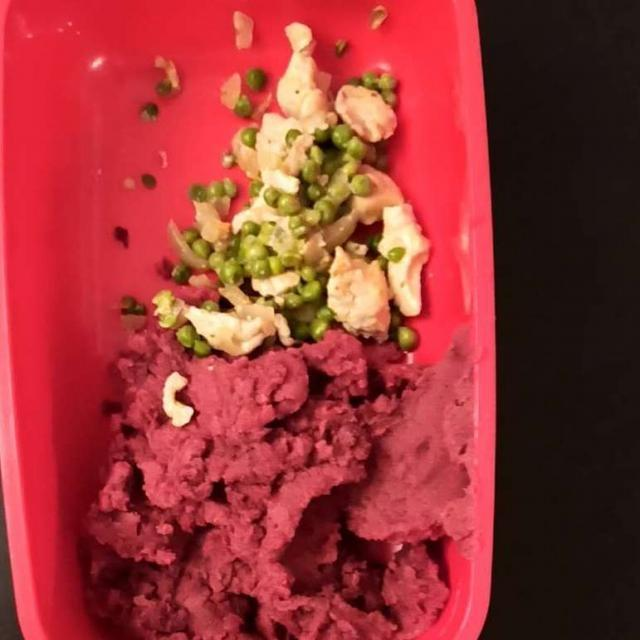beetroot: (86, 320, 479, 638)
chicken: (179, 22, 429, 350)
mashed-potatoes: (88, 320, 473, 636)
